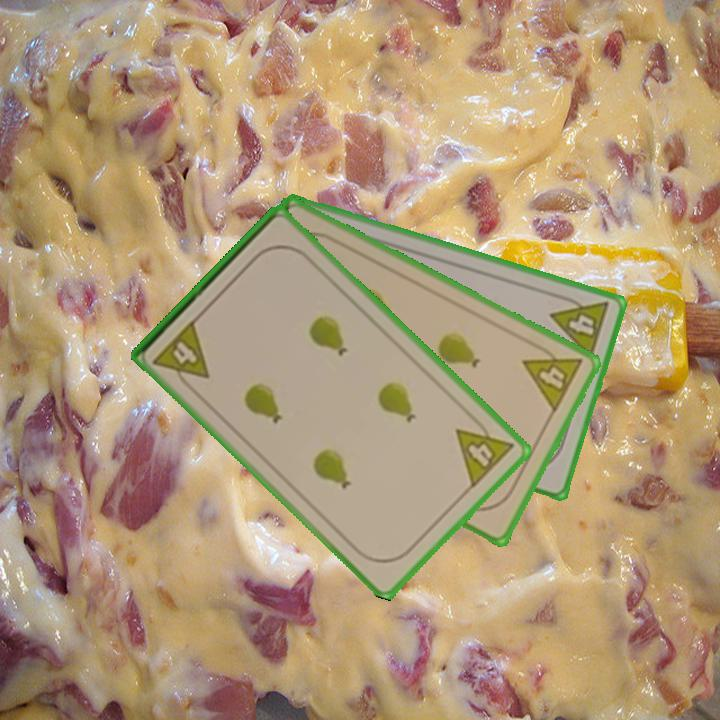4p: (452, 410, 517, 491), (519, 338, 586, 416), (150, 316, 215, 395), (547, 289, 613, 362)
